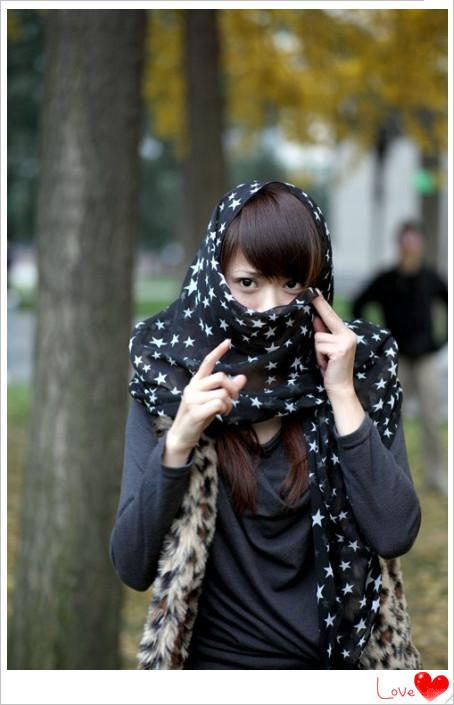WRONG: (221, 253, 328, 360)
